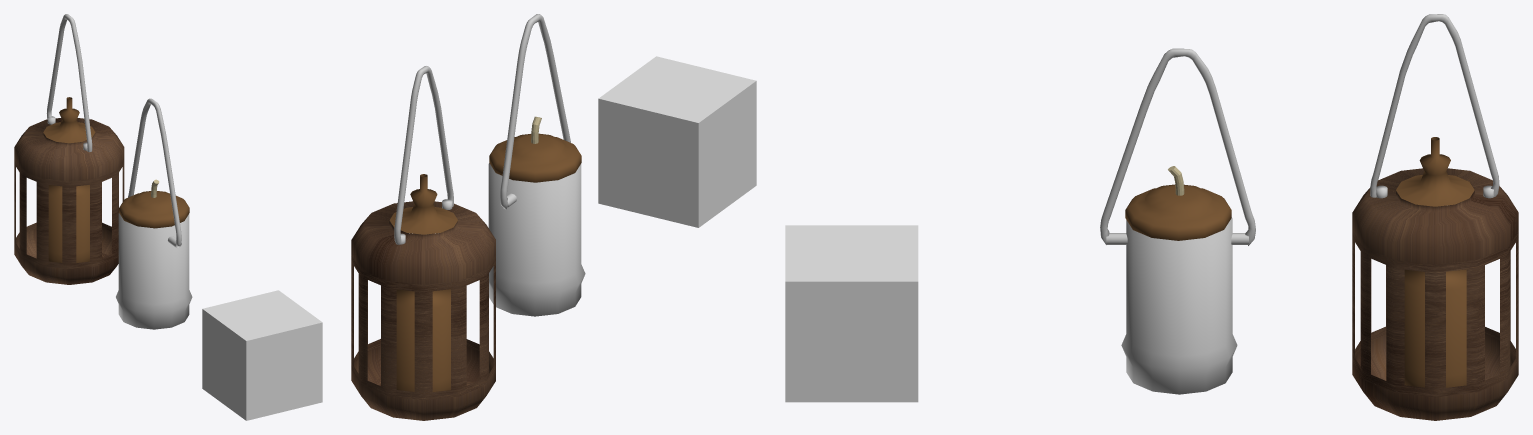
File: den 1.fbx
3 renders of one model, left to right at view 1: azimuth 30°, elevation 25°; view 2: azimuth 150°, elevation 25°; view 3: azimuth 270°, elevation 25°, orthographic. The views are drawn at different scales.
Visible parts, largest first — view 1: Cube, Cylinder.005, Cylinder, Cylinder.009, Cylinder.003, Cylinder.004, Cylinder.008, Cylinder.011; view 2: Cube, Cylinder.005, Cylinder, Cylinder.009, Cylinder.003, Cylinder.004, Cylinder.008, Cylinder.011; view 3: Cylinder.005, Cube, Cylinder, Cylinder.009, Cylinder.003, Cylinder.004, Cylinder.008, Cylinder.011.
Boxes of the visible parts, x1,y1,x2,y2 form: Cube: [202, 290, 322, 420]; Cylinder.005: [14, 118, 124, 284]; Cylinder: [116, 213, 192, 329]; Cylinder.009: [48, 185, 89, 262]; Cylinder.003: [119, 191, 189, 228]; Cylinder.004: [128, 98, 181, 248]; Cylinder.008: [46, 14, 92, 152]; Cylinder.011: [43, 97, 95, 143]; Cube: [598, 56, 756, 227]; Cylinder.005: [351, 201, 495, 420]; Cylinder: [488, 163, 585, 316]; Cylinder.009: [396, 289, 450, 391]; Cylinder.003: [489, 133, 581, 182]; Cylinder.004: [500, 14, 570, 209]; Cylinder.008: [394, 66, 453, 244]; Cylinder.011: [389, 174, 457, 234]; Cylinder.005: [1352, 168, 1518, 420]; Cube: [785, 225, 918, 402]; Cylinder: [1121, 217, 1237, 394]; Cylinder.009: [1404, 269, 1466, 387]; Cylinder.003: [1125, 184, 1231, 240]; Cylinder.004: [1100, 48, 1255, 245]; Cylinder.008: [1370, 14, 1499, 197]; Cylinder.011: [1396, 137, 1474, 206].
Bounding box in the file's own units: 200 × 499 × 881.
